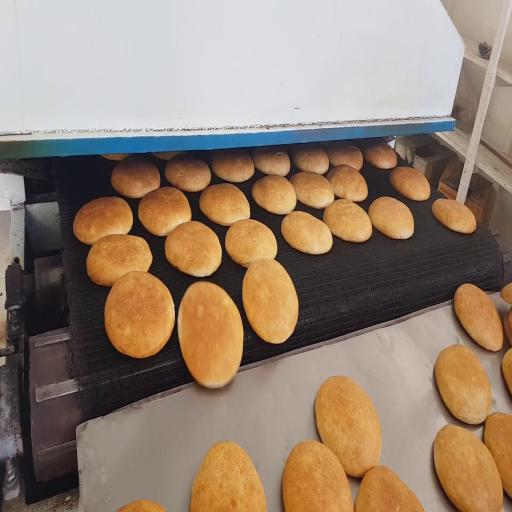bread: (178, 282, 243, 388), (315, 376, 381, 477), (105, 271, 174, 358), (434, 425, 503, 511), (190, 442, 266, 511), (283, 441, 353, 511), (243, 259, 298, 343), (435, 345, 491, 424), (87, 235, 152, 286), (454, 284, 503, 351), (165, 221, 221, 277), (355, 466, 424, 511), (73, 197, 133, 245), (138, 187, 191, 236), (225, 220, 277, 267), (484, 412, 511, 497), (281, 211, 332, 254), (323, 200, 372, 242), (200, 184, 250, 225), (111, 157, 160, 198), (369, 197, 414, 239), (252, 176, 296, 214), (290, 172, 334, 209), (165, 156, 210, 191), (432, 199, 476, 233), (327, 165, 367, 201), (211, 149, 254, 182), (390, 167, 430, 201), (252, 147, 290, 176), (325, 141, 363, 170), (292, 145, 329, 174), (363, 140, 397, 169), (118, 500, 165, 511), (502, 349, 511, 394), (152, 151, 185, 160), (504, 308, 511, 345), (501, 283, 511, 304), (102, 154, 130, 161)
